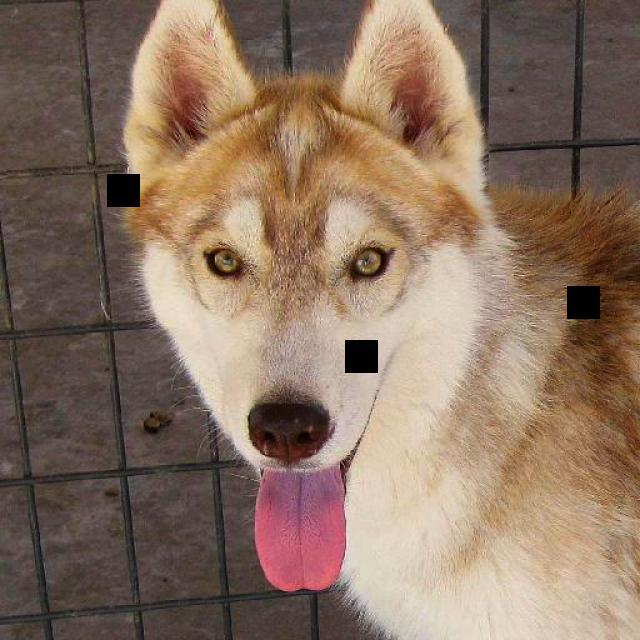adult_dog: (122, 1, 640, 634)
